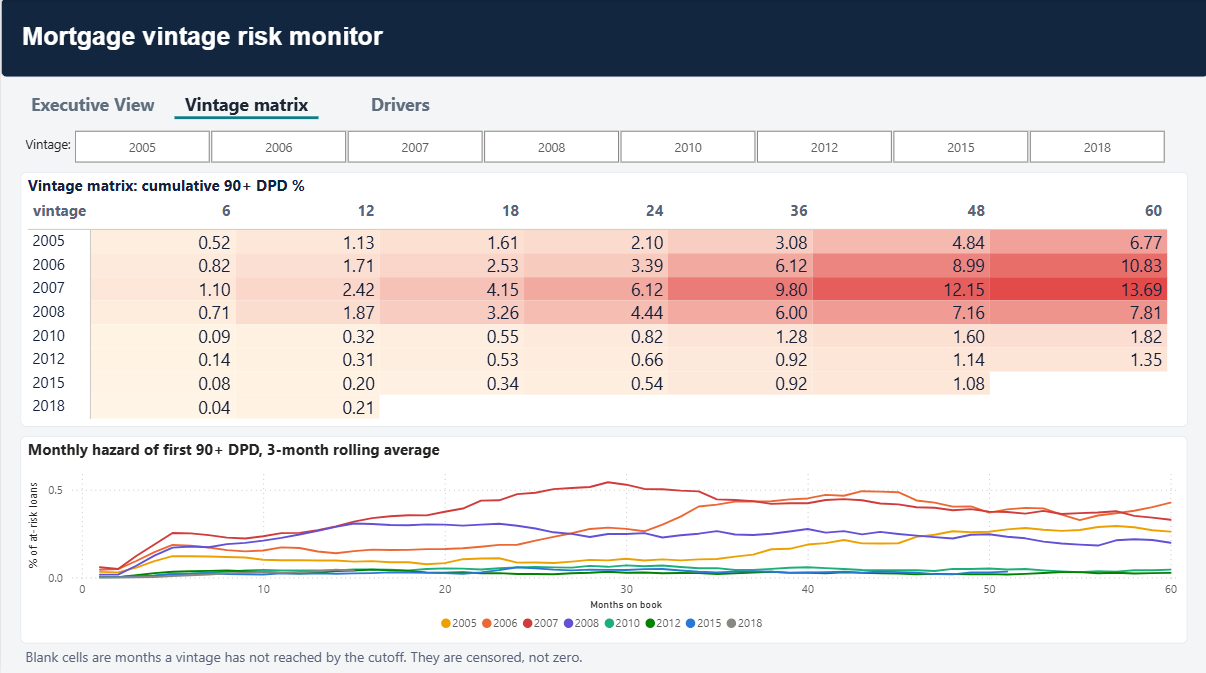

This screenshot's page, from the dashboard's own definition file:
{"tool":"powerbi","page":{"name":"Vintage matrix","canvas":[1280,720],"ordinal":1},"visuals":[{"type":"textbox","box":[0,0,1280.8,84.2],"z":0},{"type":"pageNavigator","box":[20.7,95,480.4,33.4],"z":1000},{"type":"pivotTable","title":"Vintage matrix: cumulative 90+ DPD %","fields":{"Rows":["vintage_curves.vintage"],"Columns":["vintage_curves.mob"],"Values":["vintage_curves.Default Rate %"]},"box":[20.5,184,1237.8,270],"z":2000},{"type":"lineChart","title":"Monthly hazard of first 90+ DPD, 3-month rolling average","fields":{"Y":["vintage_curves.Hazard 3M Avg"],"Category":["vintage_curves.mob"],"Series":["vintage_curves.vintage"]},"box":[20.7,465,1237.5,220],"z":3000},{"type":"textbox","box":[20.7,682.4,1239.1,38.2],"z":4000},{"type":"slicer","fields":{"Values":["vintage_curves.vintage"]},"box":[53,133,1205.4,47.9],"z":5000},{"type":"textbox","box":[20.5,140,244.5,37.6],"z":6000}]}

Visuals, with their boxes in screenshot pixels (x1, y1, x2, y2), scaled from the page's 1280x720 canvas onto the 1206x673 screenshot:
textbox: box(0, 0, 1205, 79)
pageNavigator: box(20, 89, 472, 120)
"Vintage matrix: cumulative 90+ DPD %" pivotTable: box(19, 172, 1186, 424)
"Monthly hazard of first 90+ DPD, 3-month rolling average" lineChart: box(20, 435, 1185, 640)
textbox: box(20, 638, 1187, 672)
slicer - vintage_curves.vintage: box(50, 124, 1186, 169)
textbox: box(19, 131, 250, 166)
